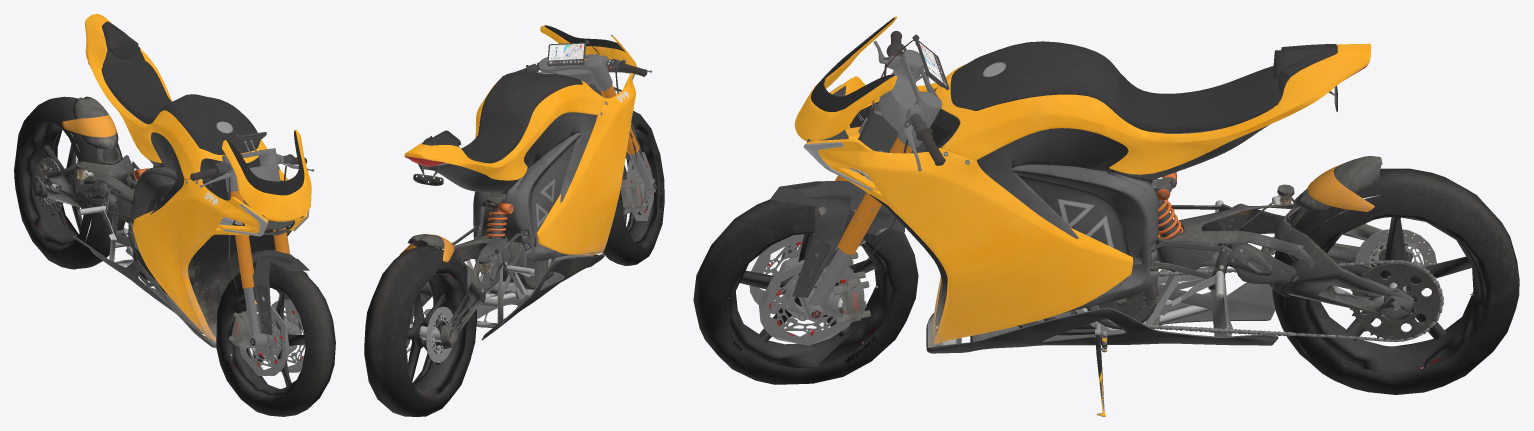
File: bike.glb
3 renders of one model, left to right at view 1: azimuth 30°, elevation 25°; view 2: azimuth 150°, elevation 25°; view 3: azimuth 270°, elevation 25°, orthographic. The views are drawn at different scales.
Visible parts, largest first — view 1: object 4, WFC, object 5, WRC, object 2, object 6, object 3, object 1; view 2: WRC, object 6, object 5, object 4, object 2, WFC, object 3, object 1; view 3: object 4, WRC, WFC, object 5, object 6, object 2, object 3, object 1.
Part boxes in pixels (x1=…): object 4: x1=132, y1=130, x2=311, y2=340; WFC: x1=216, y1=250, x2=335, y2=416; object 5: x1=85, y1=14, x2=279, y2=187; WRC: x1=14, y1=99, x2=137, y2=268; object 2: x1=64, y1=63, x2=191, y2=295; object 6: x1=71, y1=79, x2=216, y2=347; object 3: x1=185, y1=132, x2=314, y2=288; object 1: x1=47, y1=96, x2=127, y2=269; WRC: x1=364, y1=249, x2=484, y2=416; object 6: x1=424, y1=112, x2=604, y2=340; object 5: x1=404, y1=71, x2=605, y2=180; object 4: x1=483, y1=25, x2=636, y2=322; object 2: x1=405, y1=146, x2=563, y2=327; WFC: x1=602, y1=111, x2=664, y2=265; object 3: x1=502, y1=40, x2=652, y2=154; object 1: x1=389, y1=246, x2=476, y2=338; object 4: x1=794, y1=16, x2=1133, y2=416; WRC: x1=1284, y1=179, x2=1519, y2=394; WFC: x1=693, y1=181, x2=918, y2=384; object 5: x1=933, y1=41, x2=1371, y2=174; object 6: x1=926, y1=76, x2=1291, y2=353; object 2: x1=1017, y1=64, x2=1382, y2=416; object 3: x1=807, y1=31, x2=969, y2=254; object 1: x1=1272, y1=168, x2=1460, y2=379.
Size of the model in its own units: 0.5659 by 1.1 by 2.15.
7 materials, 7 textured.
